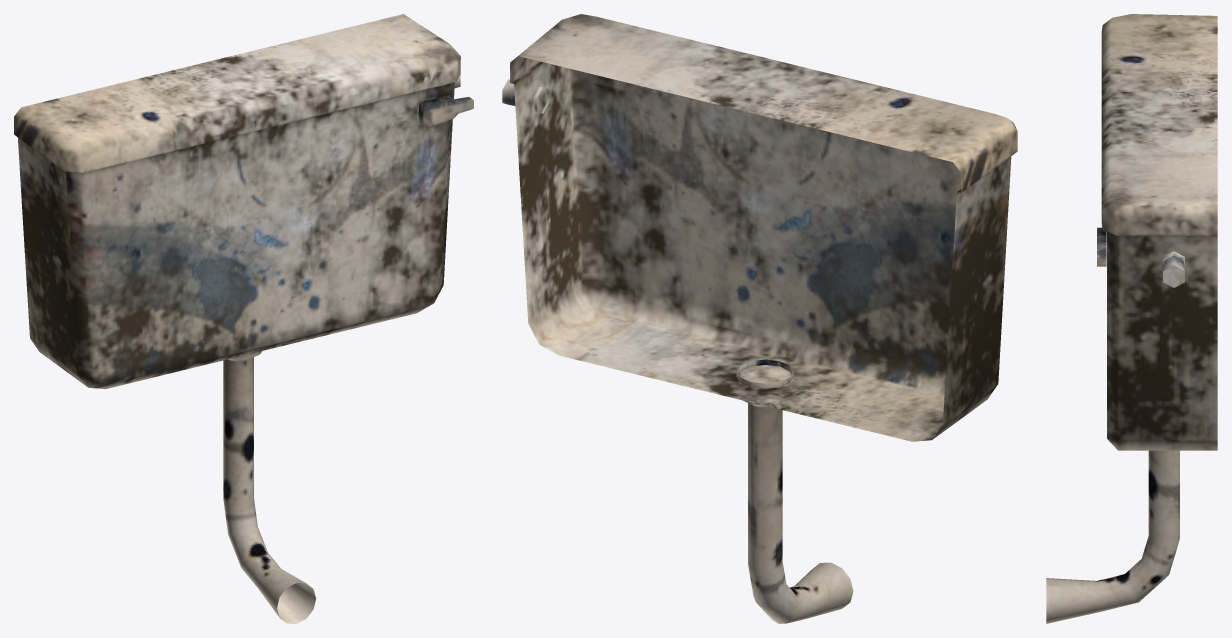
File: WaterFlush.FBX
3 renders of one model, left to right at view 1: azimuth 30°, elevation 25°; view 2: azimuth 150°, elevation 25°; view 3: azimuth 270°, elevation 25°, orthographic. The views are drawn at different scales.
Parts seen in each view (by area): view 1: WaterFlush; view 2: WaterFlush; view 3: WaterFlush, FlushWaterInlet.
Part boxes in pixels (x1,y1,x2,y2): WaterFlush: (14, 14, 473, 623); WaterFlush: (510, 14, 1017, 623); WaterFlush: (1046, 14, 1217, 623); FlushWaterInlet: (1162, 251, 1184, 287).
Size of the model in its own units: 74.49 by 85.02 by 25.86.
